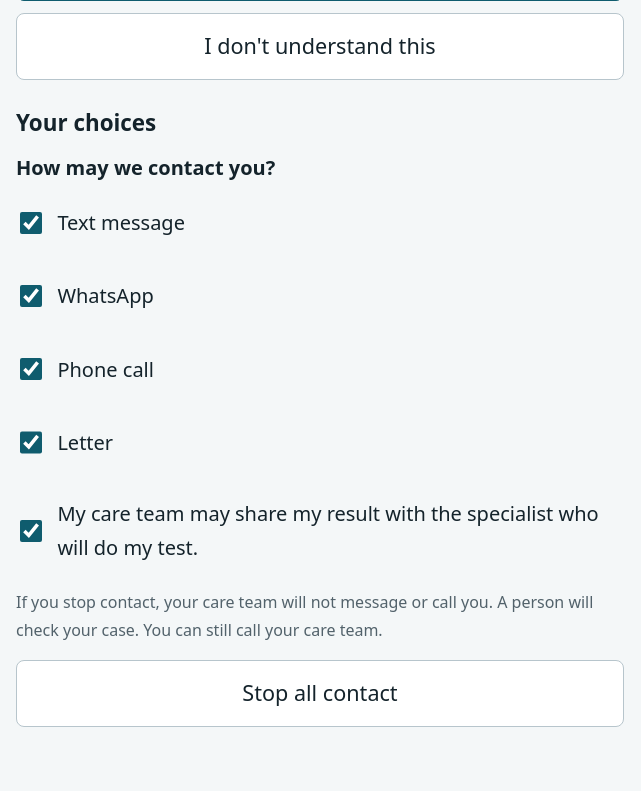
Test: Patient page › withdrawing consent freezes outreach and flags the case for review; the patient can resume
(page scrolled)
Click the button with test id "consent-withdraw".
click(320, 693)  # box left=16, top=660, right=624, bottom=727
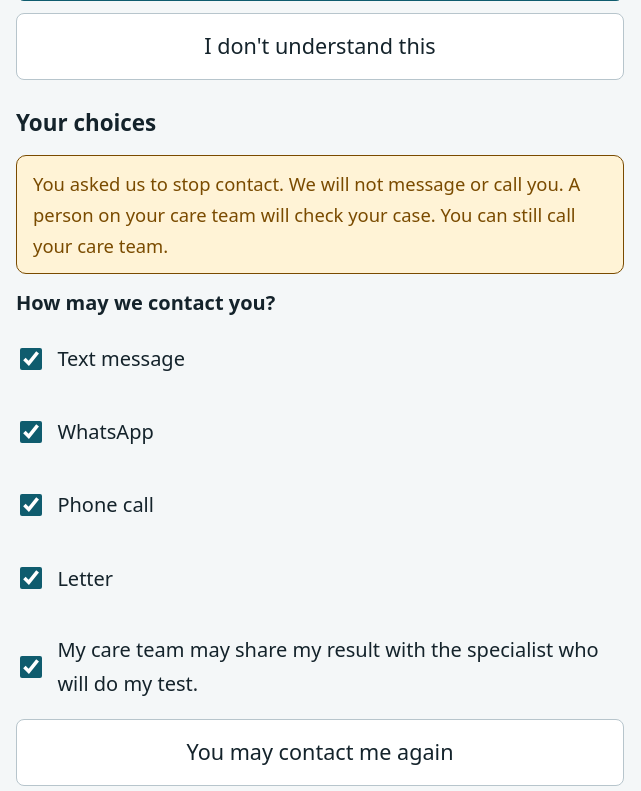
Check: the message with test id "consent-withdrawn" is shown, box left=16, top=155, right=624, bottom=274
Click the button with test id "consent-resume".
click(320, 753)  # box left=16, top=719, right=624, bottom=786
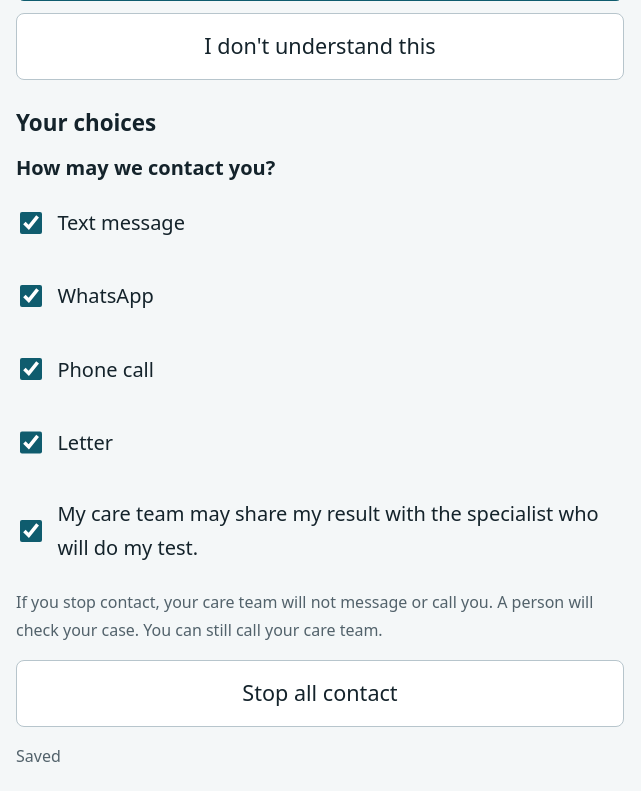
Check: the message with test id "consent-withdrawn" is gone
